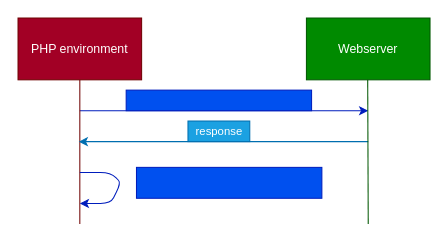
Image size: 448x243. Some labels were removed from this diagram. The shapes that lost their labels are listed below. From the top down, each one's centre as x and y in pixels, then its label:
At [218,100]: "PHPUnit: send request via Guzzle".
At [228,182]: "PHPUnit: Analyze response (content, headers, status code)".
